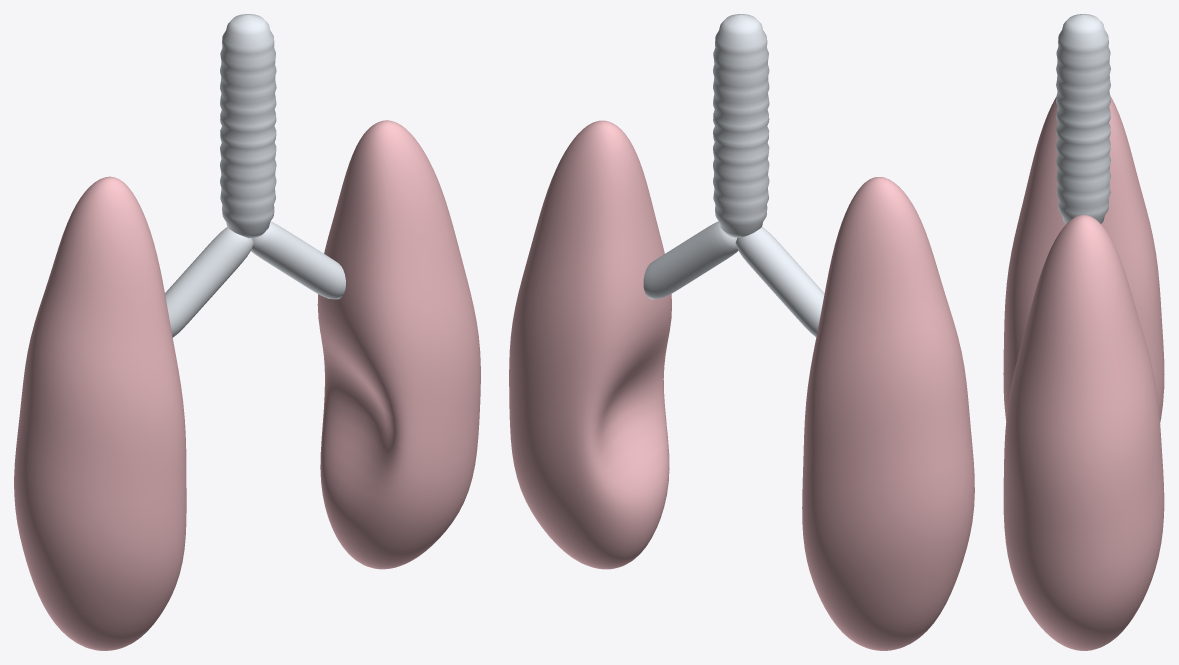
File: lungs (1).glb
The picture shows the model from 3 angles, left to right: view 1: azimuth 30°, elevation 25°; view 2: azimuth 150°, elevation 25°; view 3: azimuth 270°, elevation 25°; orthographic projection. The views are drawn at different scales.
Bounding box in the file's own units: 1.1 × 1.4 × 0.3532.
